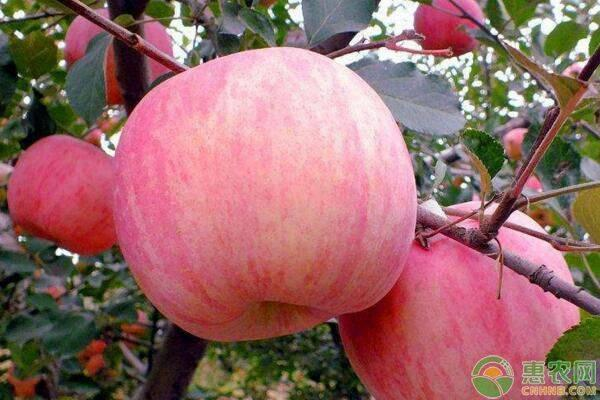apple: (115, 47, 416, 364), (340, 199, 580, 400), (4, 133, 118, 256)
